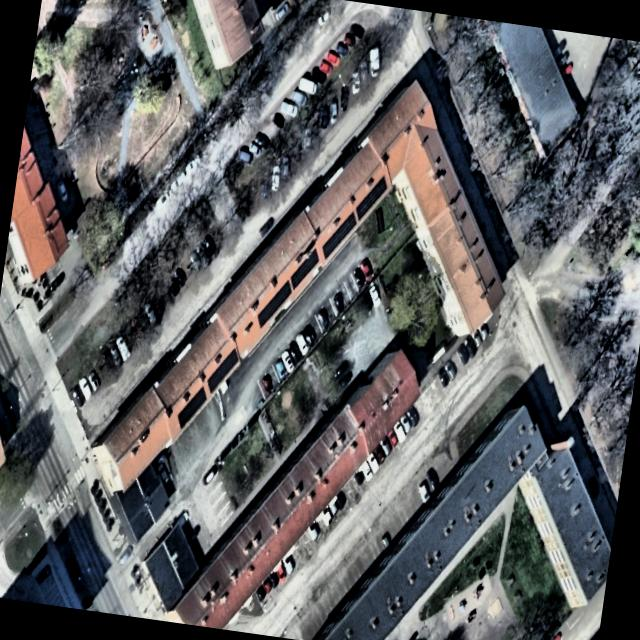roof_pv: (320, 206, 362, 266), (256, 276, 294, 332), (288, 242, 324, 295), (355, 172, 391, 222), (208, 347, 240, 392), (176, 391, 197, 430), (194, 385, 211, 419)
